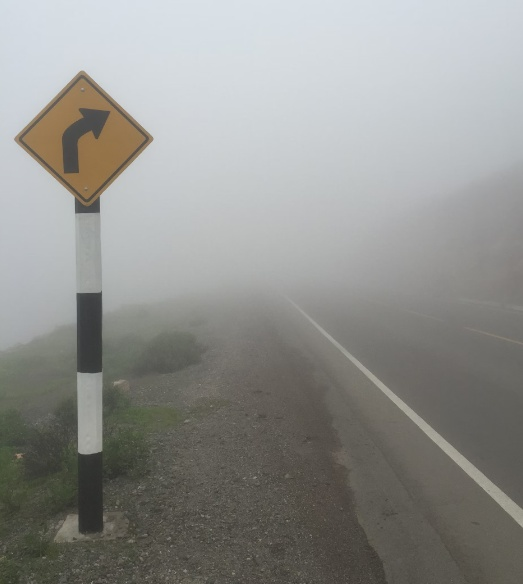Turn right: (10, 61, 159, 215)
